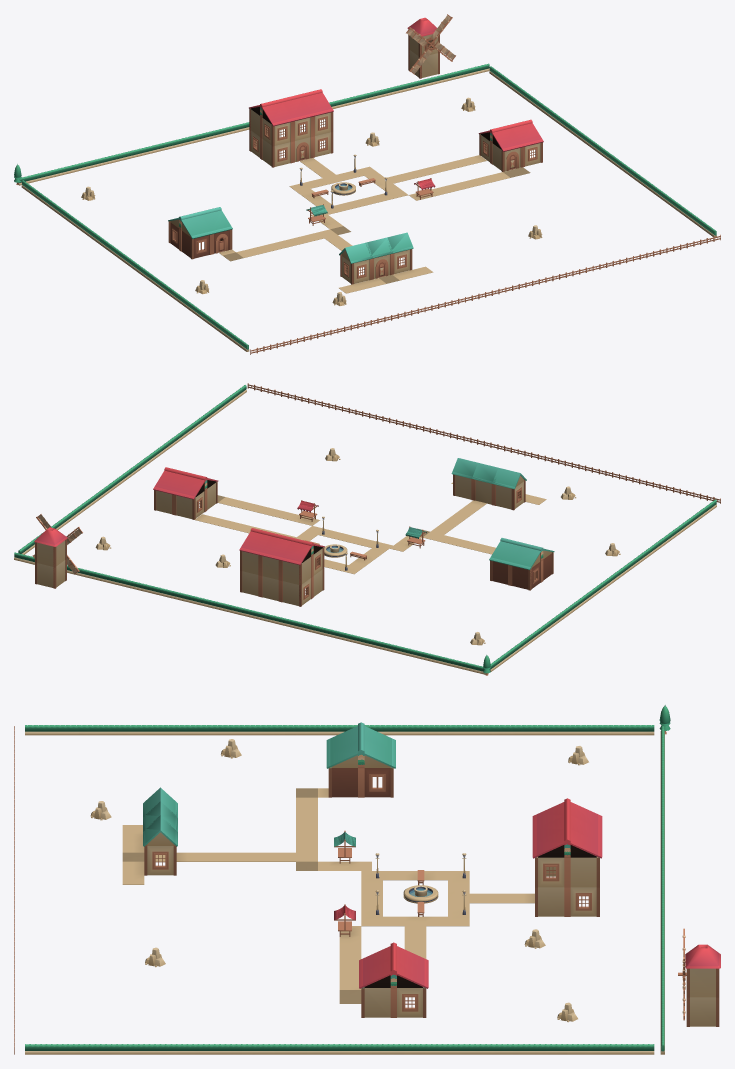
File: lobby-village.glb
3 renders of one model, top to bottom at view 1: azimuth 30°, elevation 25°; view 2: azimuth 150°, elevation 25°; view 3: azimuth 270°, elevation 25°, orthographic. The views are drawn at different scales.
Parts seen in each view (by area): view 1: hedges-mesh, paths-mesh, bld-home-mesh, bld-library-mesh, bld-furnitureShop-mesh, bld-cafe-mesh, props-mesh, fences-mesh, windmill-mesh, windmill-rotor-mesh; view 2: hedges-mesh, bld-home-mesh, paths-mesh, bld-library-mesh, bld-cafe-mesh, bld-furnitureShop-mesh, fences-mesh, props-mesh, windmill-mesh; view 3: hedges-mesh, paths-mesh, bld-home-mesh, bld-cafe-mesh, bld-furnitureShop-mesh, props-mesh, windmill-mesh, bld-library-mesh.
Part boxes in pixels (x1=…): hedges-mesh: x1=18, y1=63, x2=716, y2=351; paths-mesh: x1=219, y1=155, x2=530, y2=293; bld-home-mesh: x1=249, y1=89, x2=333, y2=167; bld-library-mesh: x1=339, y1=232, x2=413, y2=284; bld-furnitureShop-mesh: x1=168, y1=207, x2=232, y2=259; bld-cafe-mesh: x1=478, y1=119, x2=543, y2=171; props-mesh: x1=81, y1=97, x2=542, y2=305; fences-mesh: x1=250, y1=234, x2=720, y2=354; windmill-mesh: x1=407, y1=17, x2=439, y2=78; windmill-rotor-mesh: x1=406, y1=14, x2=455, y2=74; hedges-mesh: x1=14, y1=385, x2=716, y2=674; bld-home-mesh: x1=239, y1=528, x2=324, y2=606; paths-mesh: x1=194, y1=482, x2=546, y2=574; bld-library-mesh: x1=451, y1=458, x2=526, y2=510; bld-cafe-mesh: x1=153, y1=467, x2=218, y2=519; bld-furnitureShop-mesh: x1=489, y1=538, x2=554, y2=590; fences-mesh: x1=247, y1=383, x2=720, y2=503; props-mesh: x1=95, y1=448, x2=620, y2=645; windmill-mesh: x1=34, y1=527, x2=67, y2=588; hedges-mesh: x1=25, y1=725, x2=664, y2=1054; paths-mesh: x1=122, y1=788, x2=534, y2=1003; bld-home-mesh: x1=532, y1=798, x2=602, y2=916; bld-cafe-mesh: x1=359, y1=942, x2=428, y2=1017; bld-furnitureShop-mesh: x1=326, y1=722, x2=395, y2=797; props-mesh: x1=90, y1=739, x2=588, y2=1022; windmill-mesh: x1=685, y1=944, x2=720, y2=1026; bld-library-mesh: x1=143, y1=787, x2=177, y2=875.
Bounding box in the file's own units: 70.51 × 8.39 × 65.15.
Materials: 26 (24 with a texture image).
